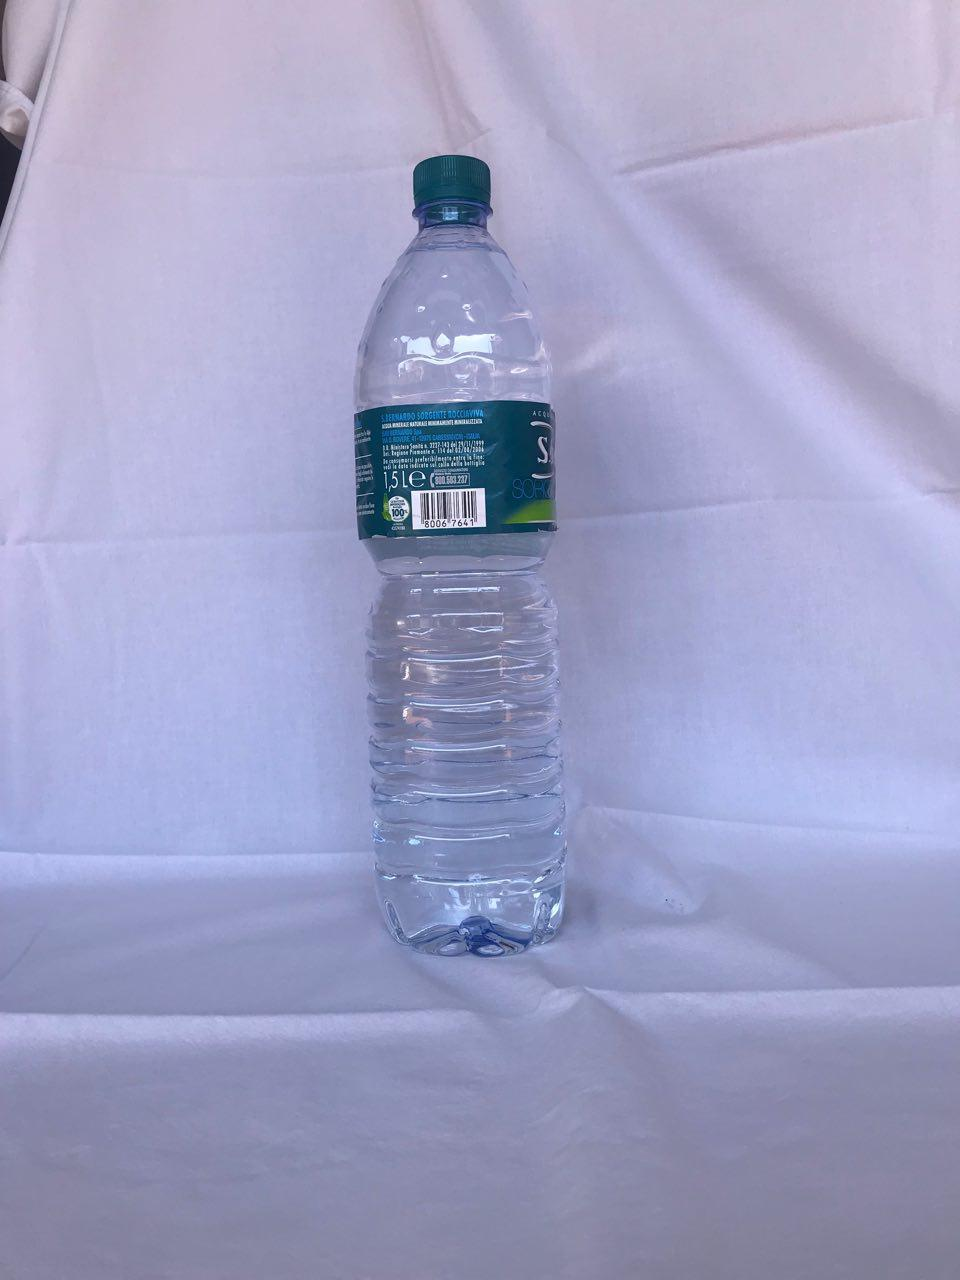san_bernardo: (349, 150, 566, 957)
